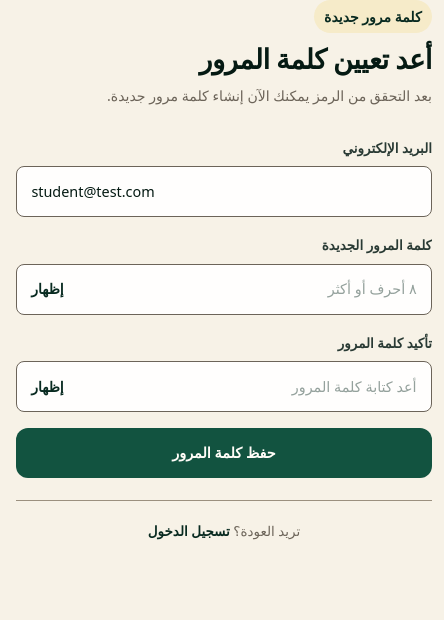
Test: ResetPasswordComponent › keeps the action enabled and explains invalid passwords after click
Step 1. Click the submit button → (224, 453), box [16,428,432,478]
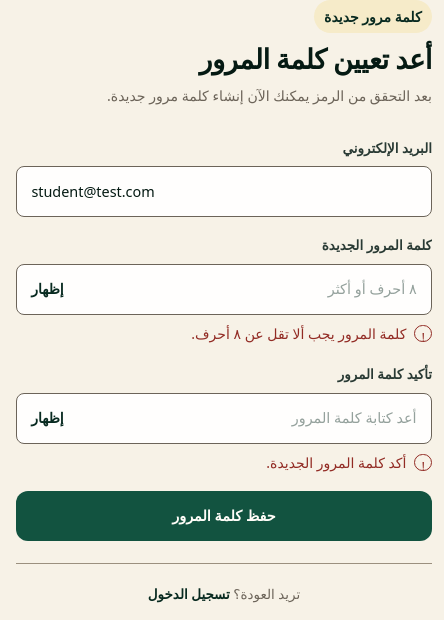
Now the text "كلمة المرور يجب ألا تقل عن ٨ أحرف" is shown, box [191,324,406,343]
Now the text "أكد كلمة المرور الجديدة" is shown, box [266,453,406,472]
